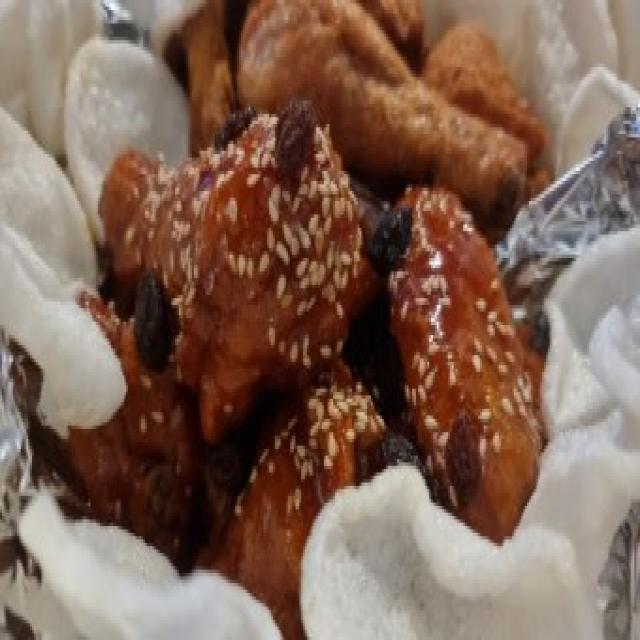Frango: (64, 131, 541, 603), (192, 0, 546, 220)
